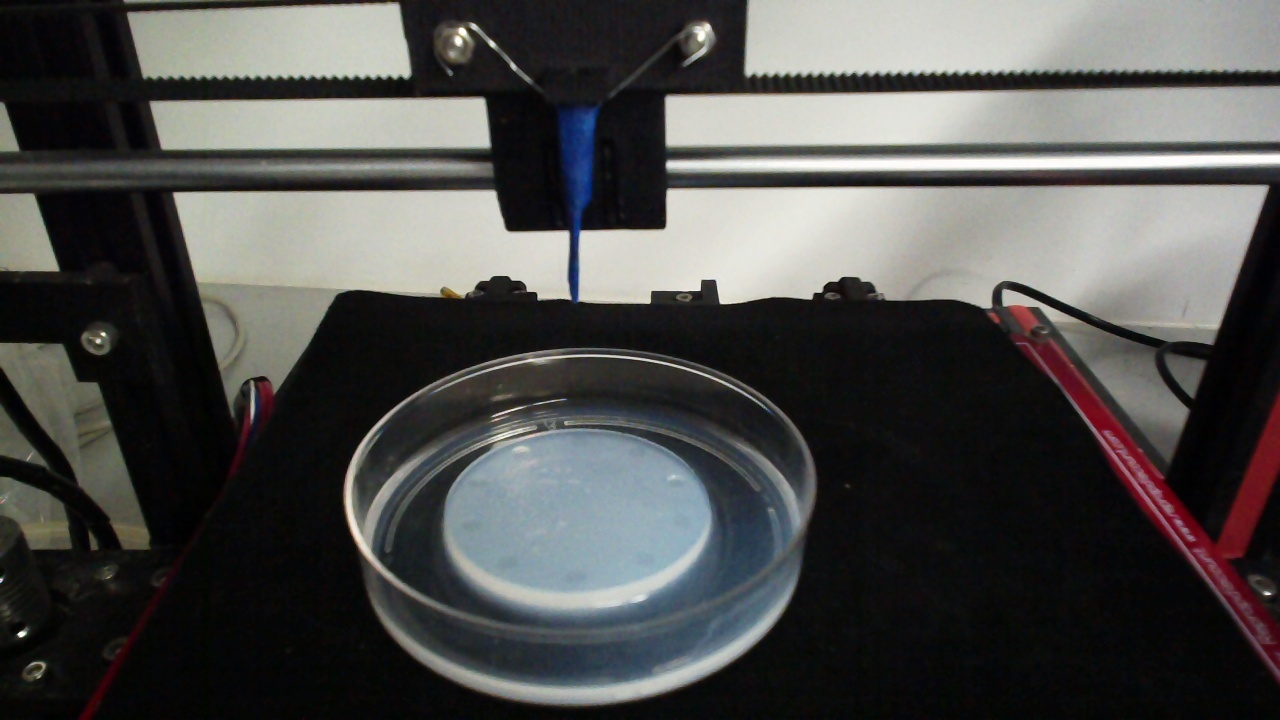groove: (494, 552, 521, 571), (669, 511, 695, 529), (631, 551, 655, 570), (467, 474, 490, 491), (563, 569, 586, 586), (663, 473, 686, 490), (460, 516, 482, 533), (510, 444, 532, 459), (566, 435, 590, 448), (625, 445, 647, 459)
needle: (561, 106, 595, 302)
